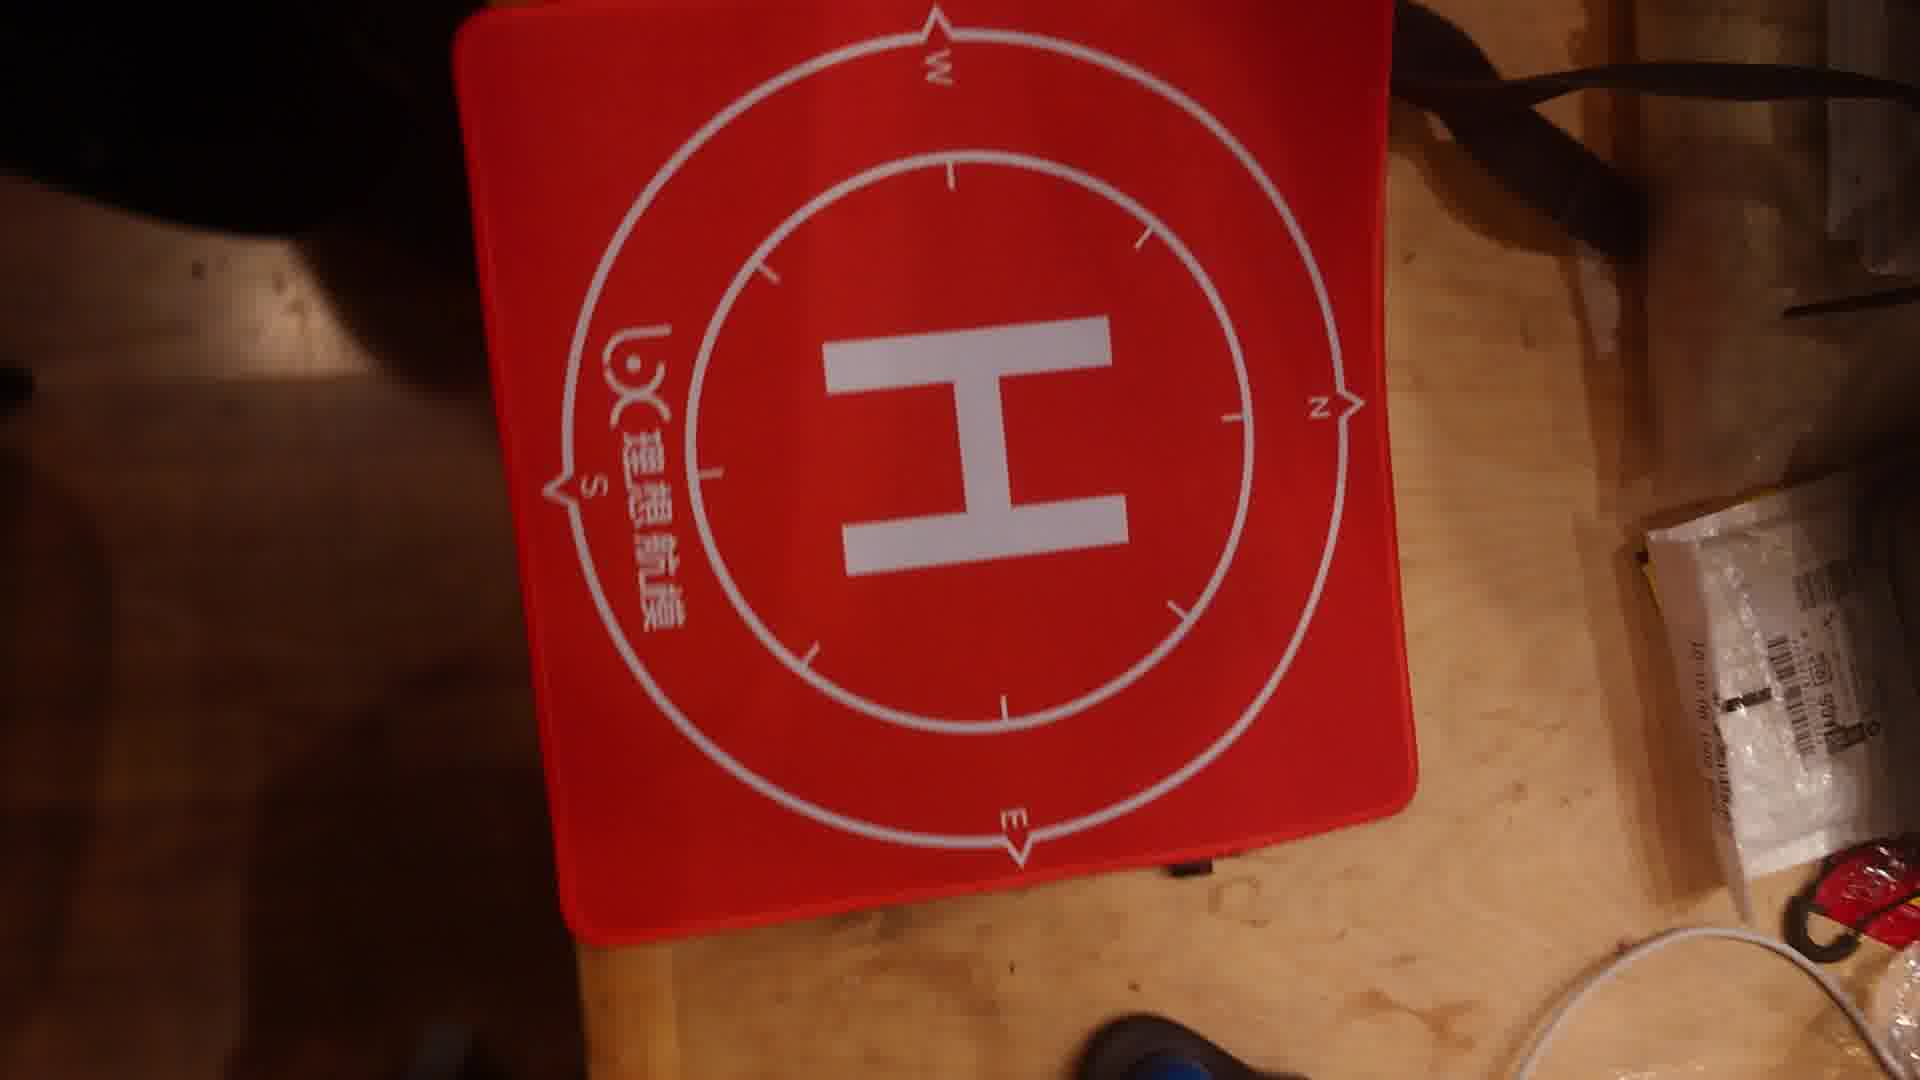H: (825, 314, 1131, 582)
